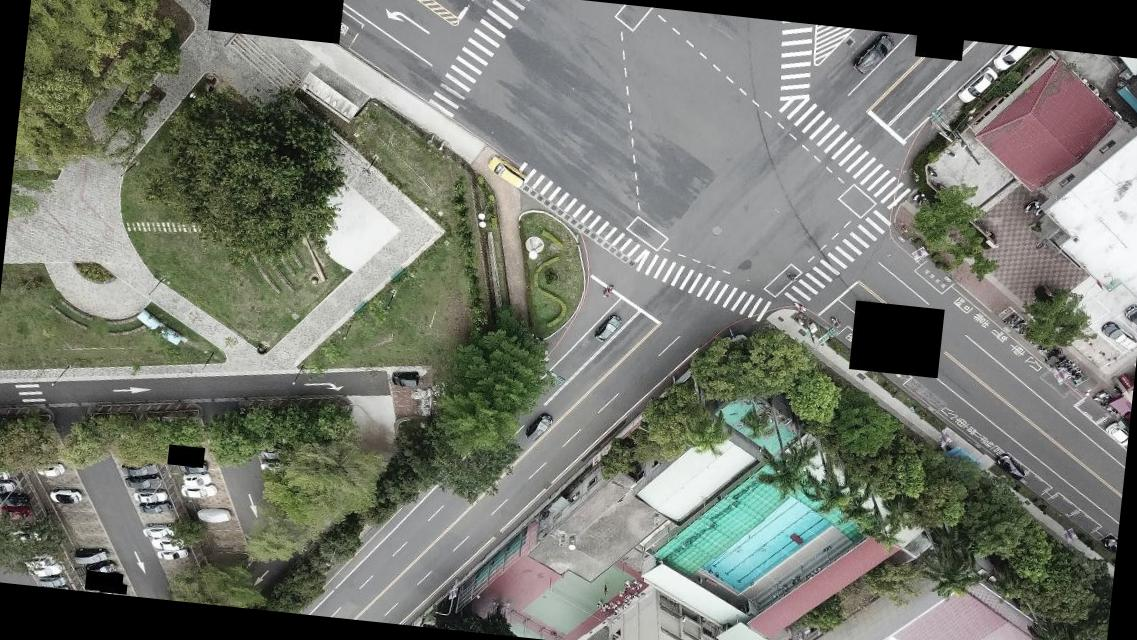vehicle: (956, 64, 998, 108), (854, 34, 894, 76), (990, 42, 1038, 74), (484, 156, 526, 188), (1098, 320, 1136, 353), (593, 311, 621, 344), (995, 452, 1026, 480), (523, 412, 551, 442), (120, 459, 159, 480), (124, 472, 162, 492), (1102, 419, 1128, 447), (74, 546, 110, 566), (20, 548, 56, 568), (26, 558, 62, 578), (49, 485, 82, 505), (180, 484, 216, 502), (142, 520, 174, 540), (133, 487, 168, 505), (84, 558, 116, 577), (390, 370, 421, 389), (151, 534, 185, 551), (156, 544, 188, 562), (11, 526, 44, 543), (138, 499, 170, 516), (0, 491, 30, 509), (182, 471, 212, 488), (32, 461, 65, 476), (178, 459, 210, 474), (38, 572, 68, 588), (1, 504, 29, 520), (1122, 302, 1136, 328), (259, 446, 283, 460), (0, 478, 15, 497), (1102, 532, 1117, 551), (0, 467, 10, 484)
